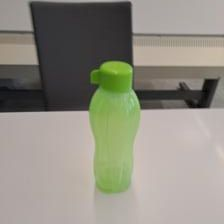bottle: (85, 58, 147, 191)
